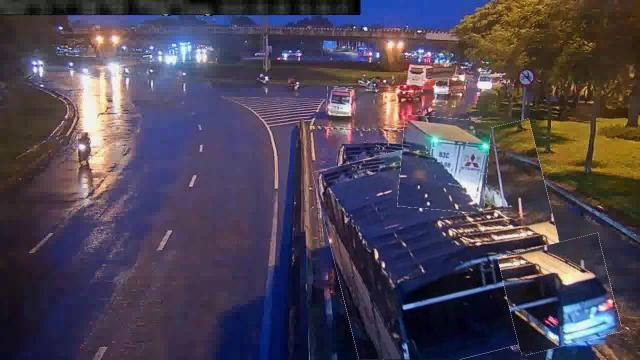Bike: (77, 132, 91, 164)
Bus: (326, 87, 356, 115)
Car: (503, 238, 617, 350)
Truck: (324, 131, 570, 360), (399, 116, 489, 212)
